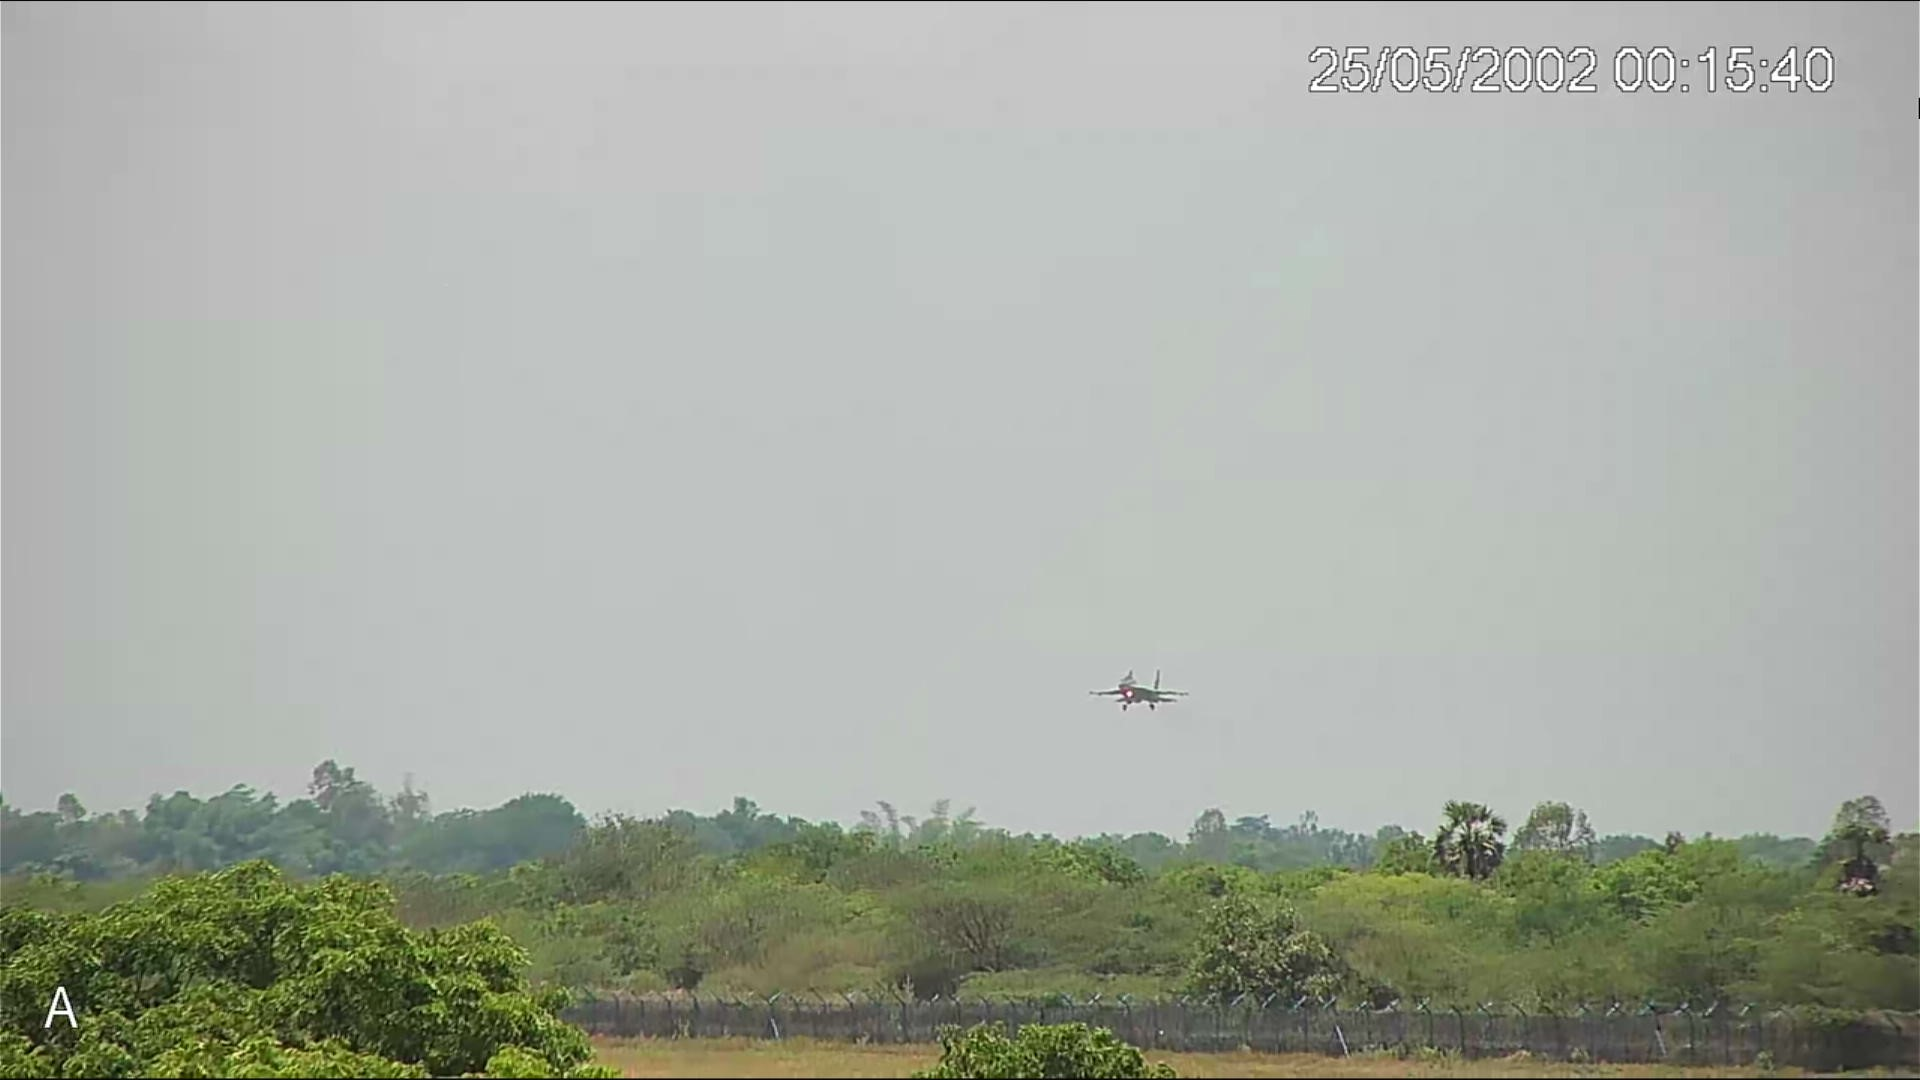SU_30: (1088, 670, 1189, 712)
